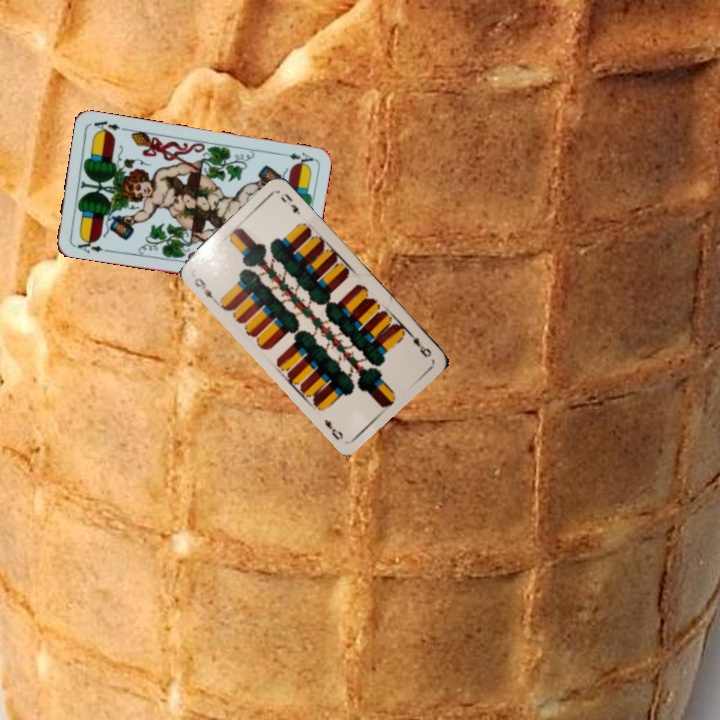E9: (404, 328, 434, 360), (190, 274, 219, 304)
EA: (70, 234, 110, 255), (275, 148, 316, 168)
